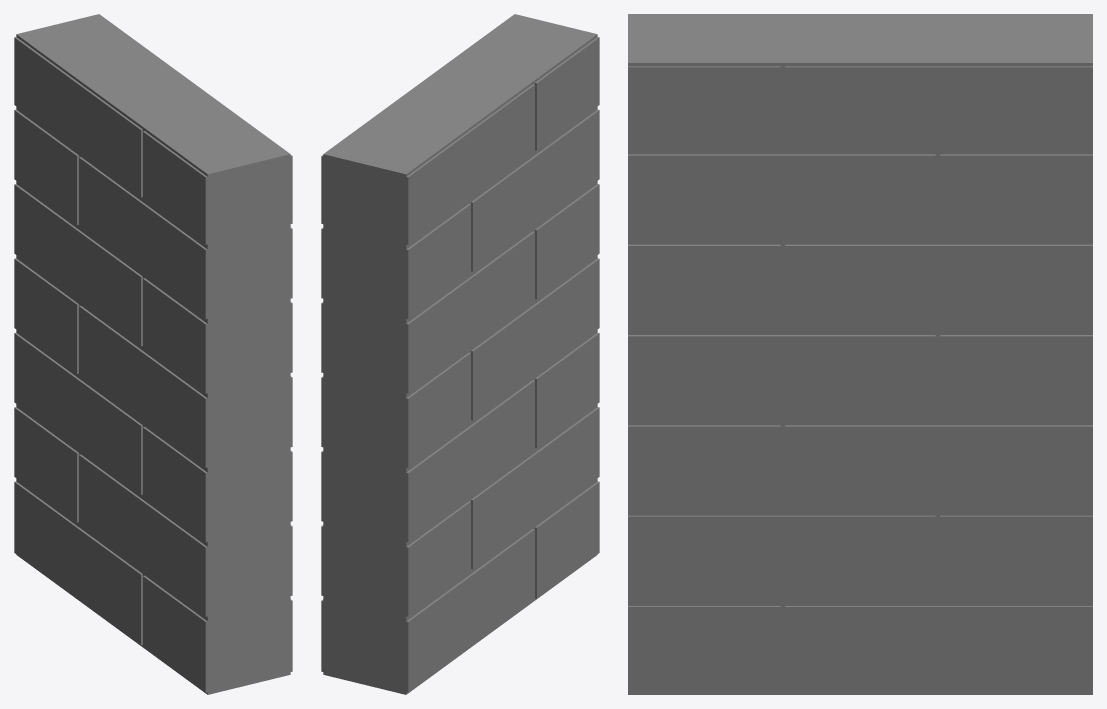
File: Parede.fbx
The picture shows the model from 3 angles, left to right: view 1: azimuth 30°, elevation 25°; view 2: azimuth 150°, elevation 25°; view 3: azimuth 270°, elevation 25°; orthographic projection. The views are drawn at different scales.
Parts seen in each view (by area): view 1: Cube; view 2: Cube; view 3: Cube.
Part boxes in pixels (<box>): Cube: <box>14,14,292,694</box>; Cube: <box>321,14,599,694</box>; Cube: <box>628,14,1092,694</box>.
Bounding box in the file's own units: 1.05 × 6 × 4.
